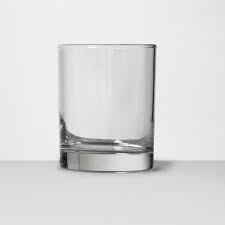glass: (53, 40, 160, 176)
